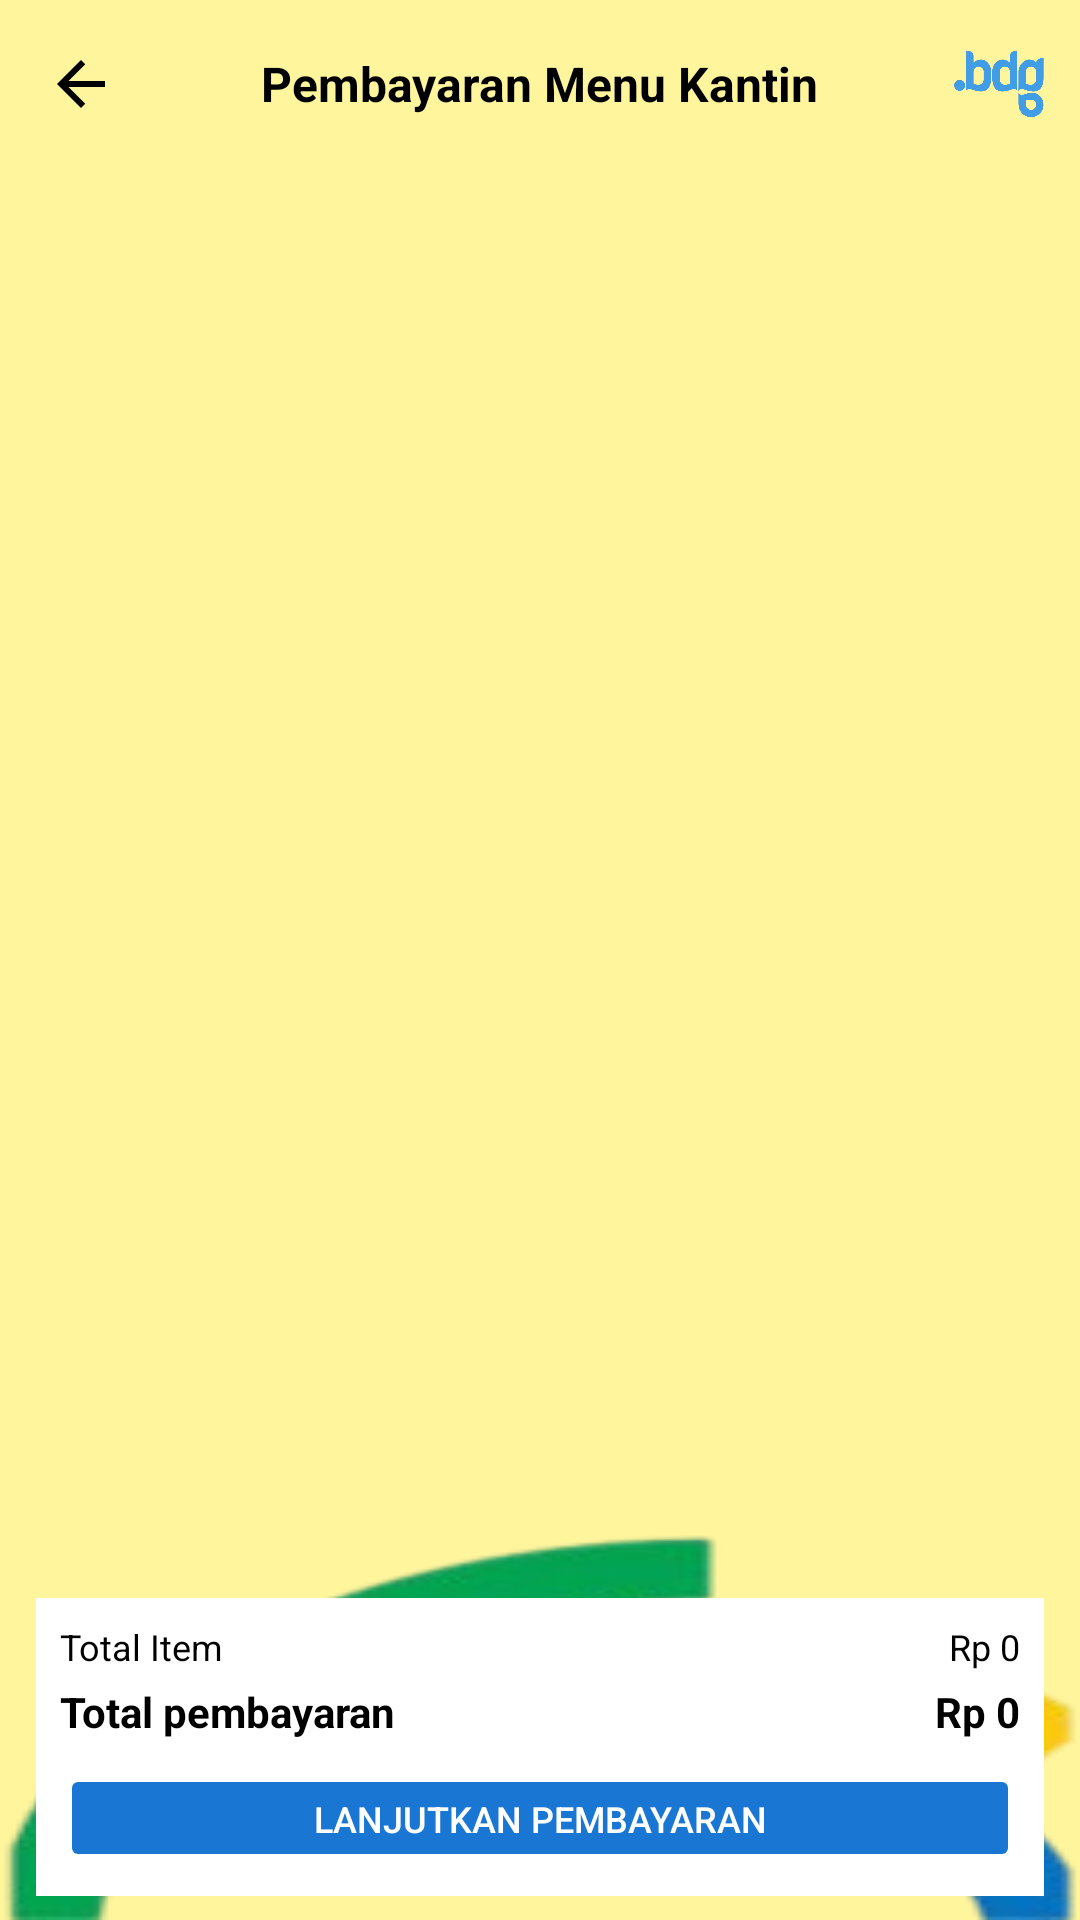

Named icons in this screenshot (1080×1920) and their bounding boxes, detection(x1, y1, x2, y2):
Tombol Kembali: detection(57, 60, 105, 108)
